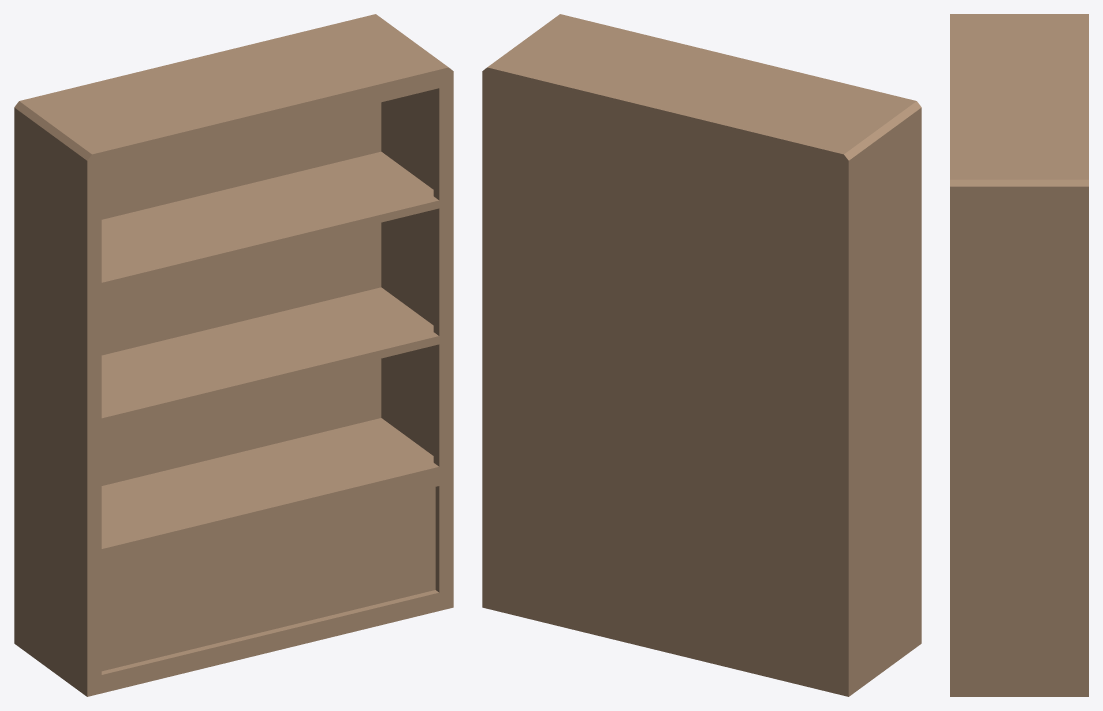
The model's file is Final_Shelf.fbx.
The picture shows the model from 3 angles, left to right: view 1: azimuth 30°, elevation 25°; view 2: azimuth 150°, elevation 25°; view 3: azimuth 270°, elevation 25°; orthographic projection. The views are drawn at different scales.
Parts seen in each view (by area): view 1: pCube1; view 2: pCube1; view 3: pCube1.
Boxes of the visible parts, <box> form: pCube1: <box>14,14,453,696</box>; pCube1: <box>482,14,921,696</box>; pCube1: <box>950,14,1088,696</box>.
Bounding box in the file's own units: 6.34 × 8.94 × 2.19.
